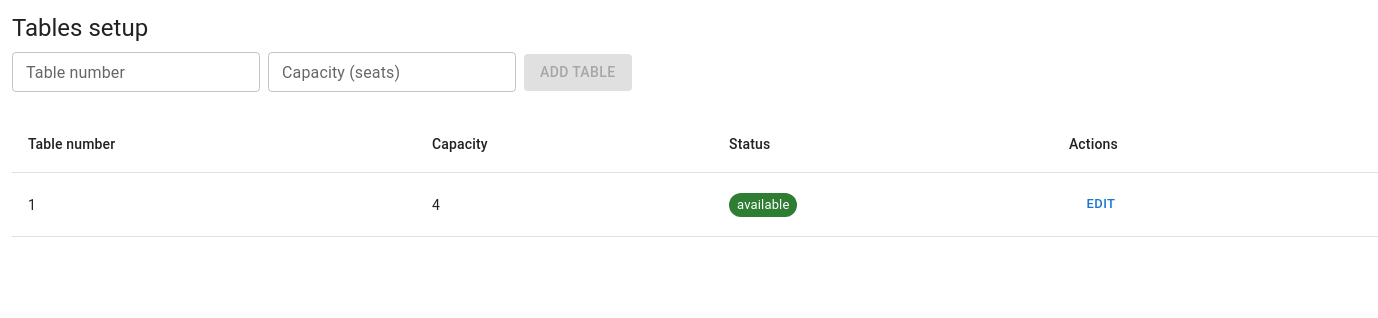
Scenario: TablesSetupPage › surfaces the backend's exact duplicate-number message inline
Expected: the text "available" is shown, [737,197,790,212]
Type "1" into the field labelled "Table number" at (136, 72), box [12,52,260,92]
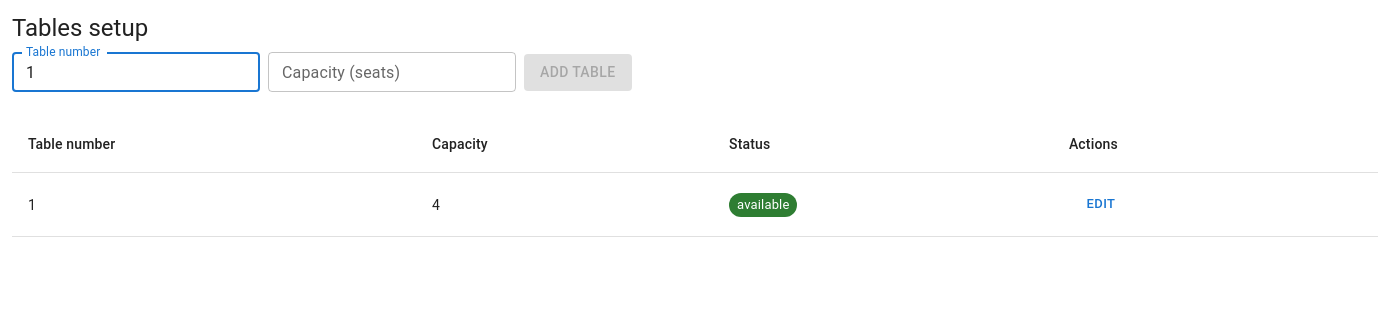
Type "4" into the field labelled "Capacity (seats)" at (392, 72), box [268,52,516,92]
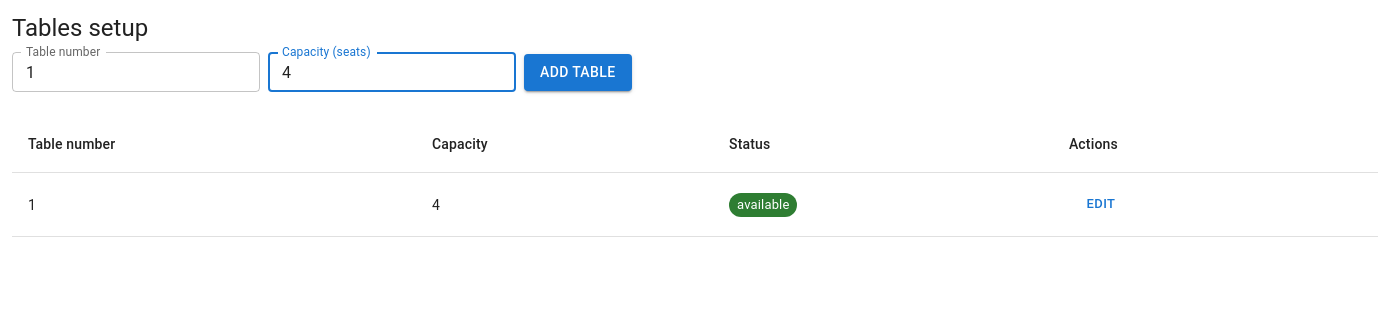
Click the button "Add table" at (578, 72), box [524,54,632,91]
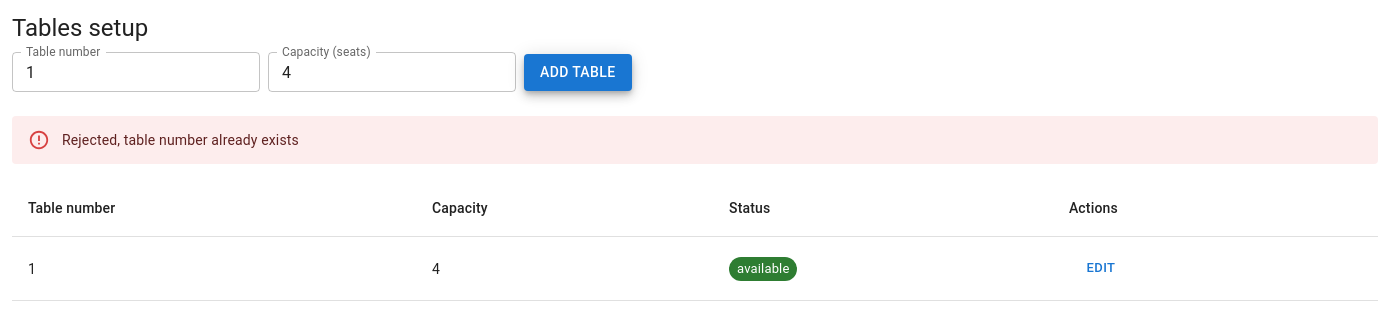
Result: the text "Rejected, table number already exists" is shown at [62,132,299,148]
